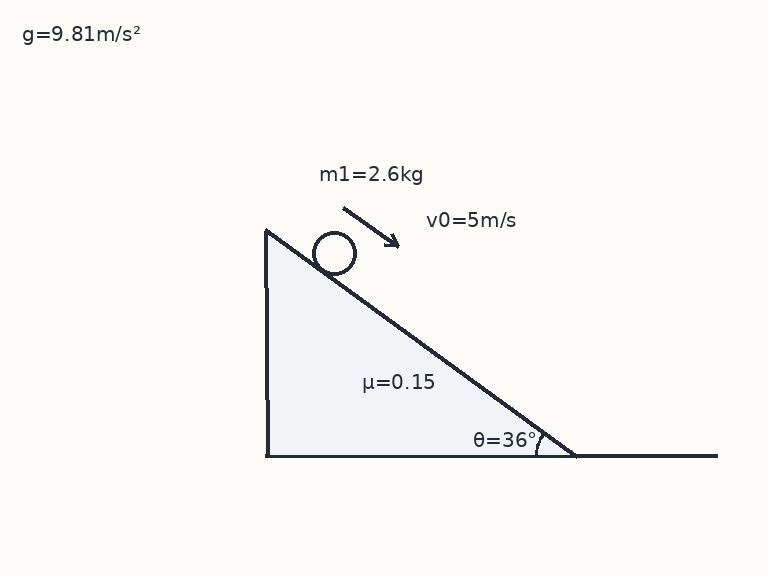ball: (310, 229, 358, 277)
ramp: (263, 228, 578, 458)
